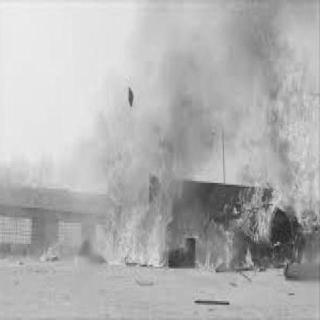Fire: (194, 0, 320, 276)
